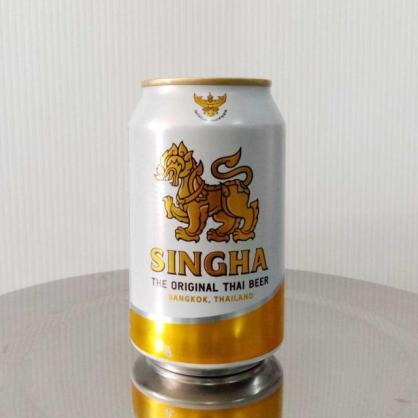can: (129, 77, 284, 376)
